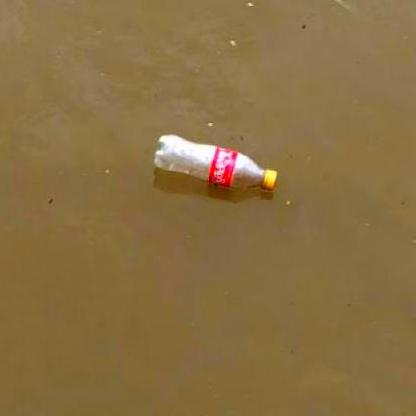plastic bottle: (154, 134, 278, 190)
